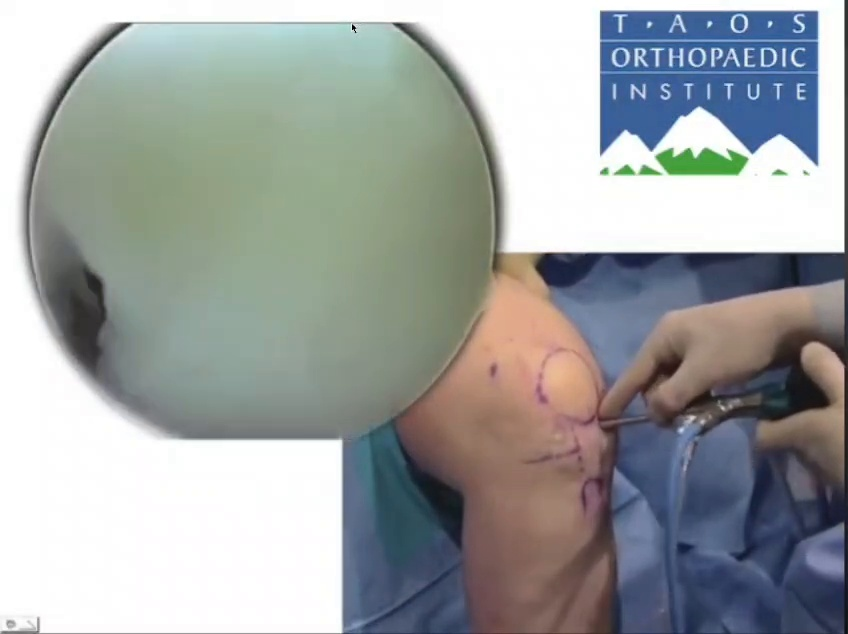arthroscope: (482, 264, 848, 552)
probe: (750, 333, 848, 486), (605, 460, 674, 589)
